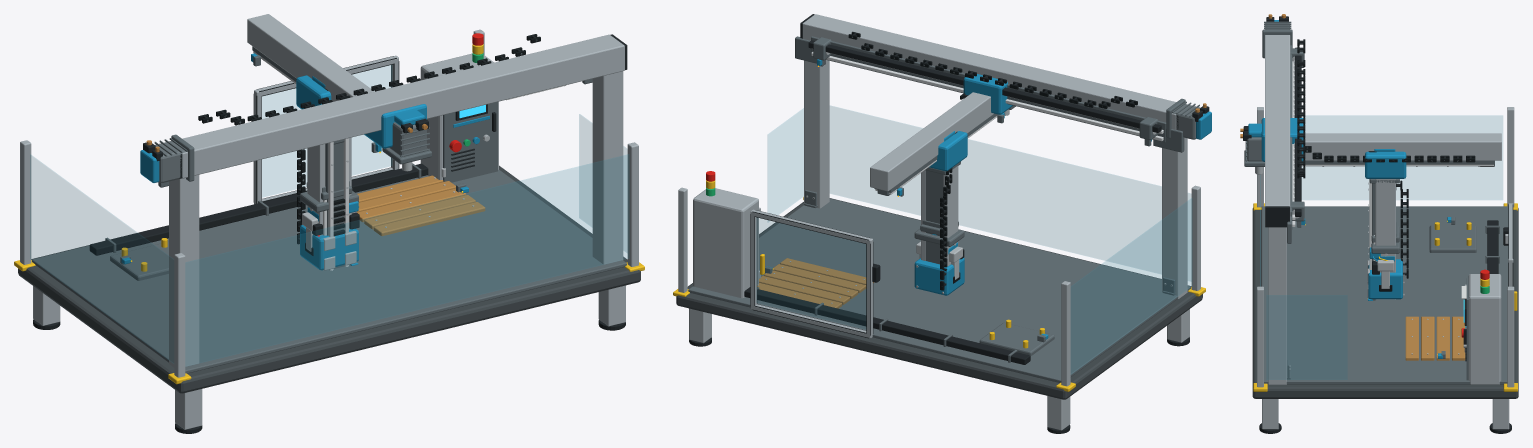
The model's file is palletizer-3axis-v2.glb.
3 renders of one model, left to right at view 1: azimuth 30°, elevation 25°; view 2: azimuth 150°, elevation 25°; view 3: azimuth 270°, elevation 25°, orthographic. The views are drawn at different scales.
Visible parts, largest first — view 1: Machine_Bed, Rear_Safety_Guard, X_Beam_Body, Left_Safety_Guard, Machine_Base, Column_5.0_Body, Column_-5.0_Body, Y_Beam_Body, Gate_Polycarbonate, Cable_Tray, Cabinet_Door, Right_Safety_Guard (+21 smaller); view 2: Machine_Bed, Rear_Safety_Guard, Left_Safety_Guard, Gate_Polycarbonate, Machine_Base, X_Beam_Body, Cabinet, Y_Beam_Body, Column_-5.0_Body, Column_5.0_Body, Right_Safety_Guard, Cable_Tray (+25 smaller); view 3: Machine_Bed, Left_Safety_Guard, Right_Safety_Guard, Machine_Base, Y_Beam_Body, X_Beam_Body, Cabinet, Column_5.0_Body, Z_Mast_SideRail_Body.001, Pick_Fixture, Y_CarriagePlate, Z_CarriagePlate (+22 smaller).
Part boxes in pixels (x1,y1,x2,y2): Machine_Bed: [32, 169, 626, 373]; Rear_Safety_Guard: [185, 154, 629, 366]; X_Beam_Body: [182, 34, 624, 178]; Left_Safety_Guard: [30, 155, 173, 363]; Machine_Base: [18, 165, 640, 393]; Column_5.0_Body: [592, 71, 623, 264]; Column_-5.0_Body: [169, 175, 199, 367]; Y_Beam_Body: [247, 14, 374, 101]; Gate_Polycarbonate: [262, 65, 391, 197]; Cable_Tray: [89, 163, 428, 255]; Cabinet_Door: [443, 102, 497, 182]; Right_Safety_Guard: [579, 114, 627, 252]; Machine_Bed: [688, 198, 1190, 382]; Rear_Safety_Guard: [830, 106, 1191, 280]; Left_Safety_Guard: [1071, 198, 1192, 374]; Gate_Polycarbonate: [756, 218, 865, 328]; Machine_Base: [676, 198, 1202, 399]; X_Beam_Body: [802, 14, 1176, 129]; Cabinet: [693, 188, 758, 298]; Y_Beam_Body: [870, 92, 994, 191]; Column_-5.0_Body: [1162, 137, 1187, 298]; Column_5.0_Body: [804, 60, 829, 208]; Right_Safety_Guard: [767, 108, 803, 221]; Cable_Tray: [744, 287, 1030, 364]; Machine_Bed: [1261, 206, 1508, 384]; Left_Safety_Guard: [1302, 115, 1502, 199]; Right_Safety_Guard: [1266, 295, 1347, 379]; Machine_Base: [1252, 208, 1518, 398]; Y_Beam_Body: [1305, 133, 1501, 160]; X_Beam_Body: [1265, 35, 1290, 225]; Cabinet: [1468, 274, 1501, 384]; Column_5.0_Body: [1268, 227, 1286, 384]; Z_Mast_SideRail_Body.001: [1375, 179, 1395, 299]; Pick_Fixture: [1429, 225, 1476, 252]; Y_CarriagePlate: [1365, 151, 1406, 178]; Z_CarriagePlate: [1368, 259, 1402, 299].
Size of the model in its own units: 11.42 by 6.52 by 7.01.
